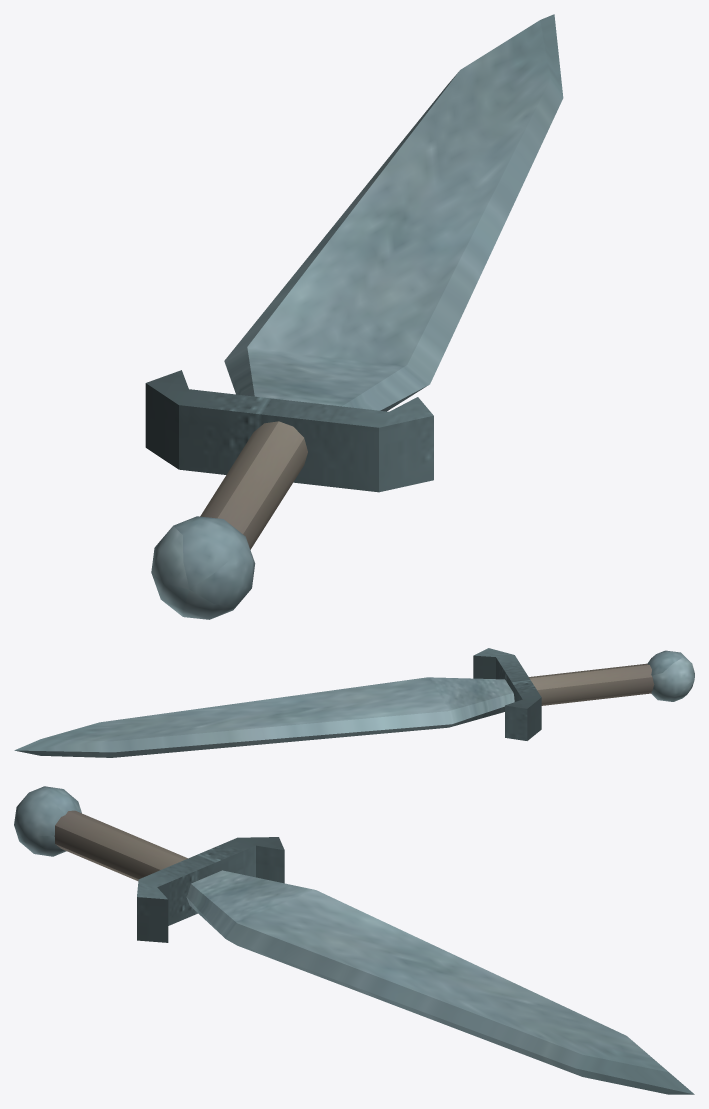
Rendered from weapon-shortSword01.glb.
The picture shows the model from 3 angles, top to bottom: view 1: azimuth 30°, elevation 25°; view 2: azimuth 150°, elevation 25°; view 3: azimuth 270°, elevation 25°; orthographic projection. The views are drawn at different scales.
Visible parts, largest first — view 1: Cube.049; view 2: Cube.049; view 3: Cube.049.
Boxes of the visible parts, bbox=[...] form: Cube.049: bbox=[145, 14, 563, 619]; Cube.049: bbox=[14, 648, 694, 757]; Cube.049: bbox=[14, 786, 694, 1094].
Bounding box in the file's own units: 0.8582 × 0.0901 × 0.8582.
Materials: 1 (1 with a texture image).
